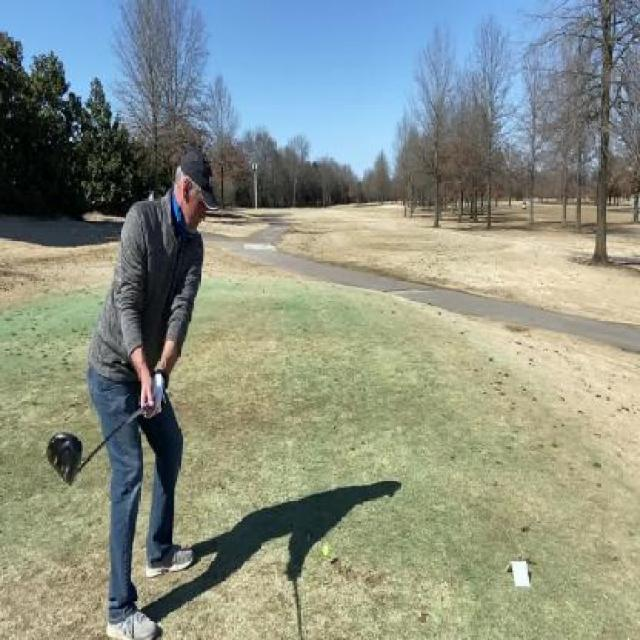club head: (45, 431, 84, 486)
